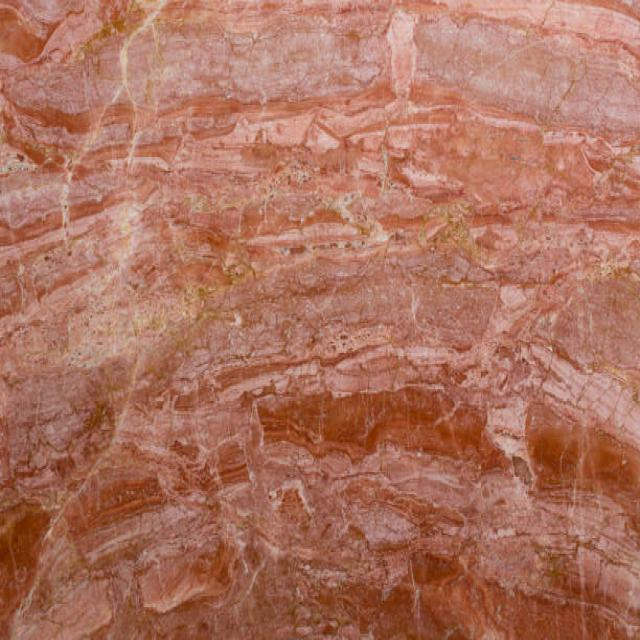Metamorphic: (2, 5, 638, 637)
